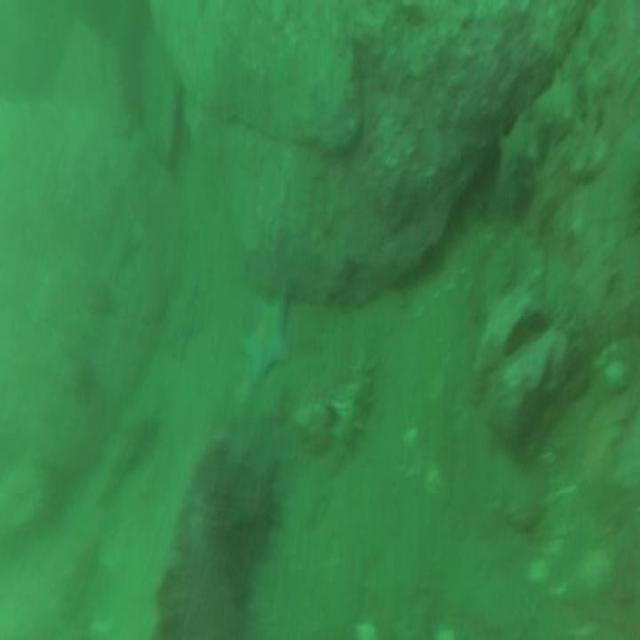holothurian: (494, 79, 575, 212), (332, 354, 376, 458)
starfish: (242, 291, 288, 379)
